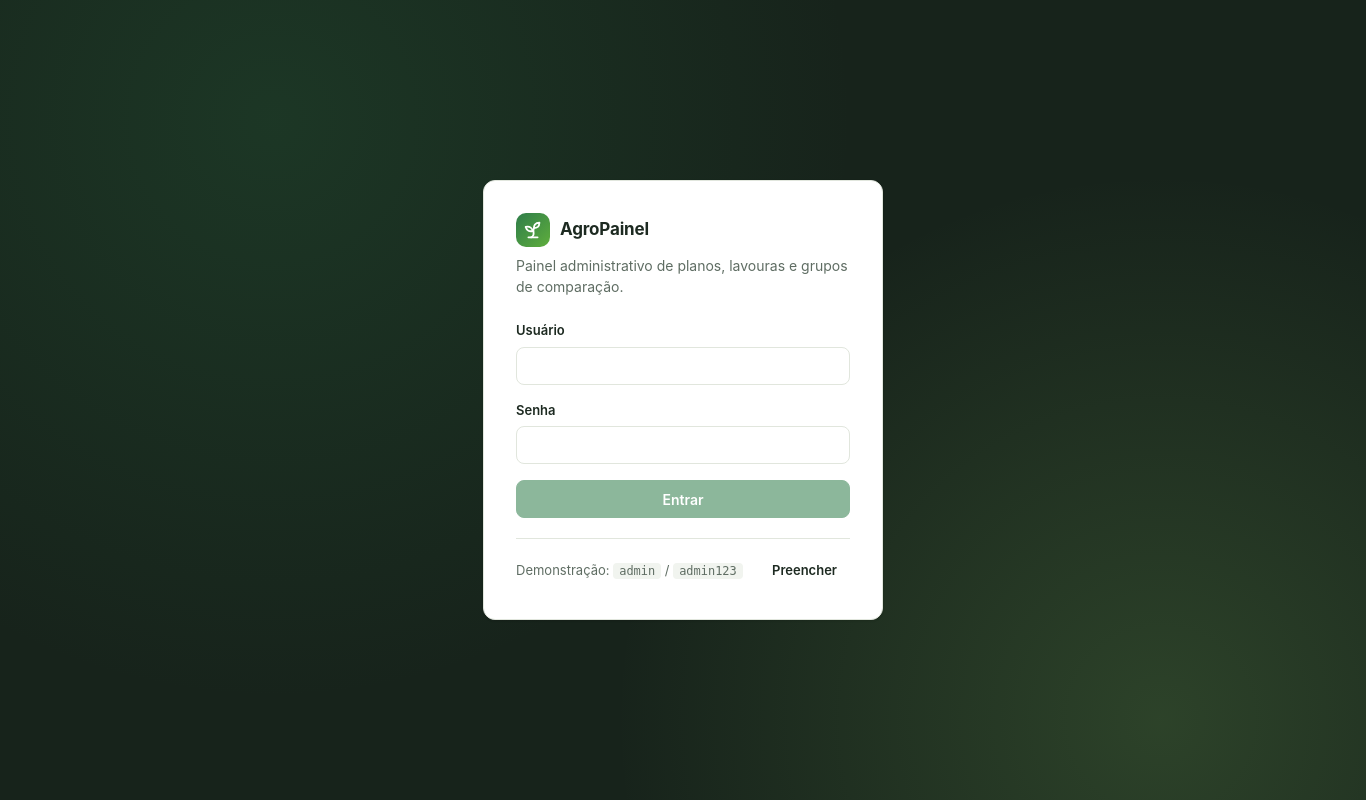
Test: Autenticação › mantém o botão desabilitado até preencher usuário e senha
expect the button "Entrar" is disabled: met, box [516,480,850,518]
Type "admin" into the field named "username". click: (683, 366)
box: [516,347,850,385]
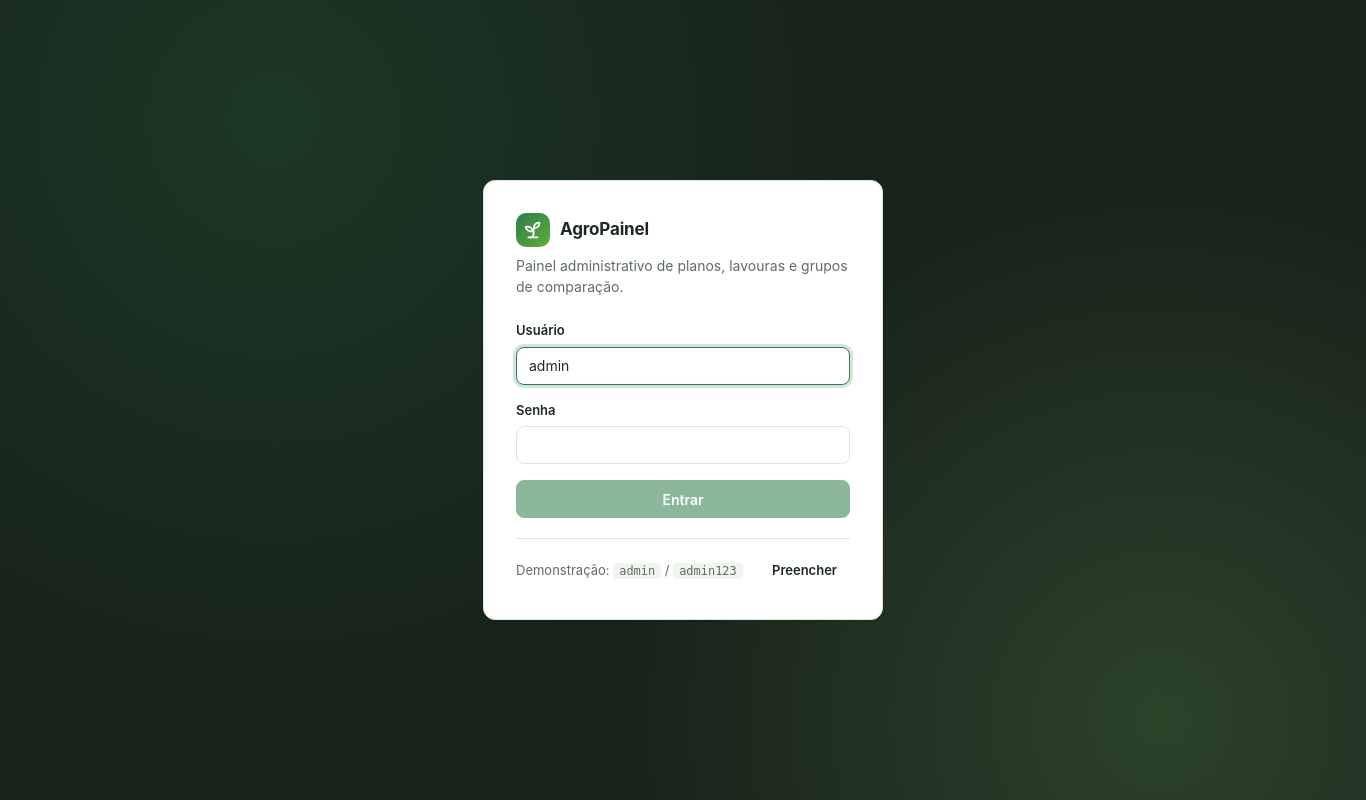
expect the button "Entrar" is disabled: met, box [516,480,850,518]
Type "x" into the password field named "password". click: (683, 445)
box: [516,426,850,464]
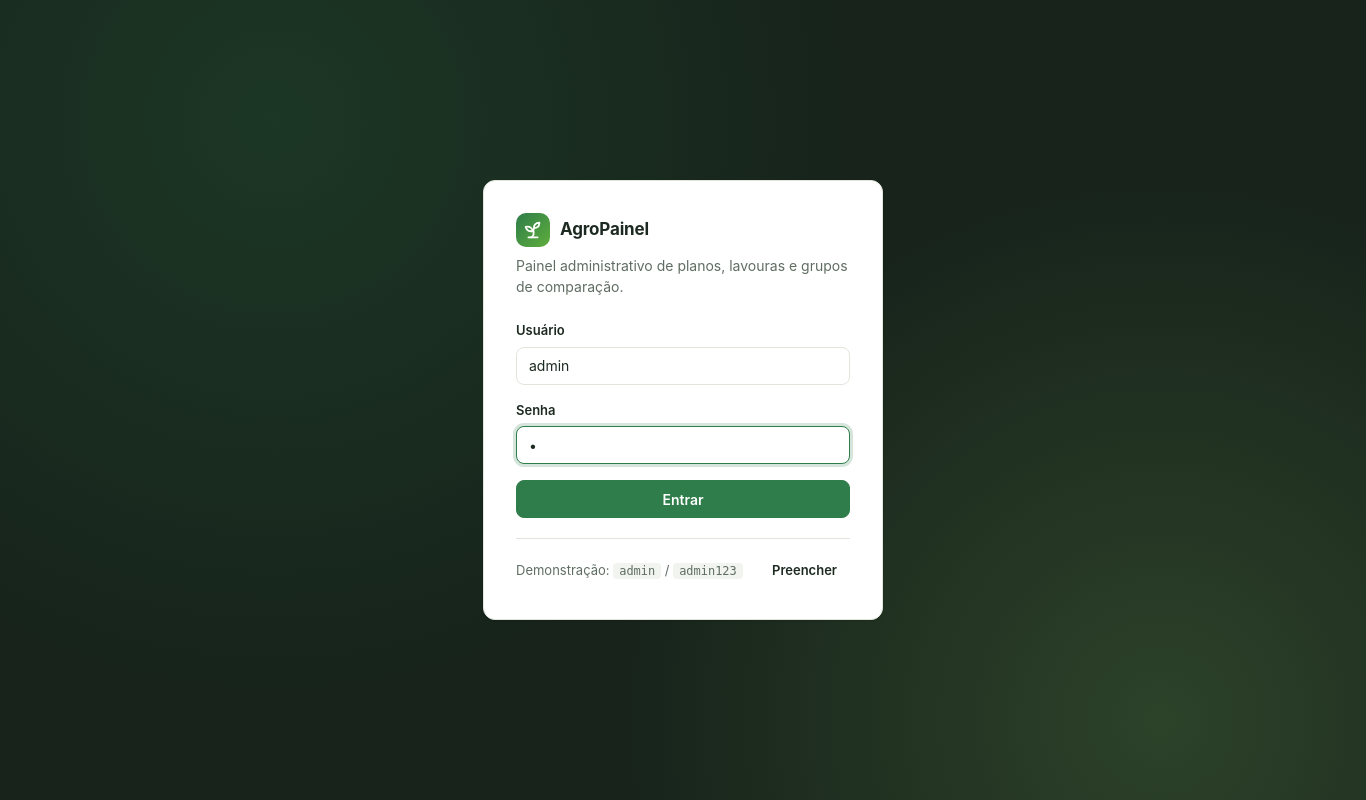
expect the button "Entrar" is enabled: met, box [516,480,850,518]
